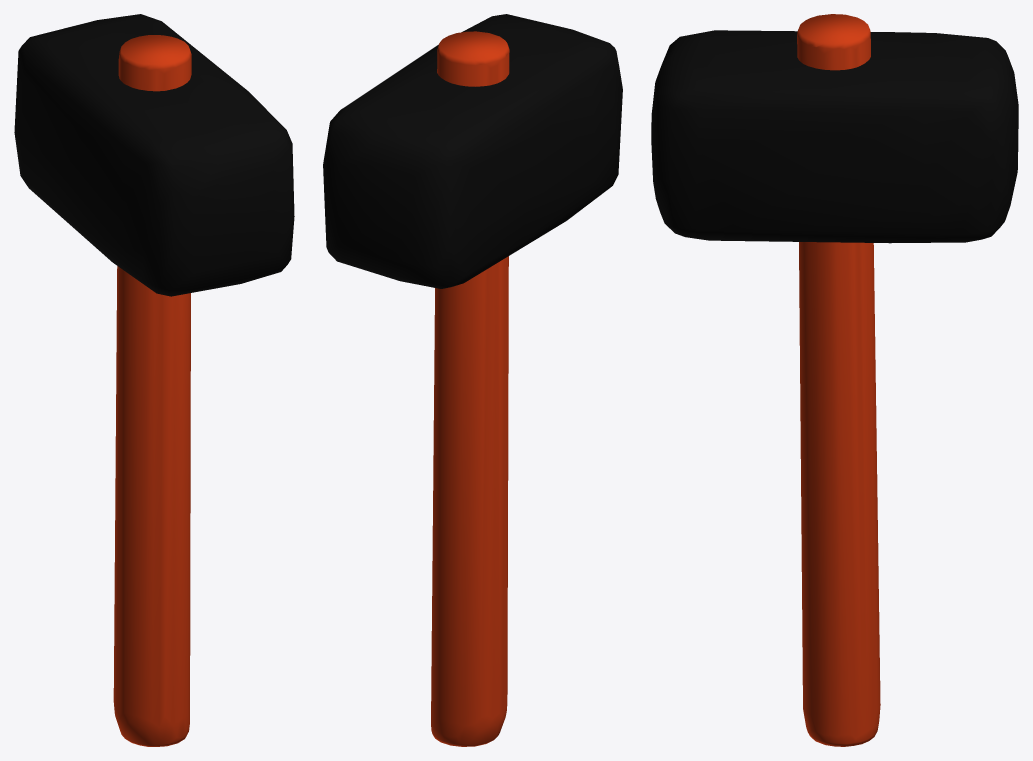
The model's file is hammer.obj.
3 renders of one model, left to right at view 1: azimuth 30°, elevation 25°; view 2: azimuth 150°, elevation 25°; view 3: azimuth 270°, elevation 25°, orthographic. The views are drawn at different scales.
Parts seen in each view (by area): view 1: Цилиндр; view 2: Цилиндр; view 3: Цилиндр.
Part boxes in pixels (<box>): Цилиндр: <box>14,14,294,746</box>; Цилиндр: <box>323,14,622,746</box>; Цилиндр: <box>651,14,1018,746</box>.
Size of the model in its own units: 0.9787 by 4.13 by 1.96.
